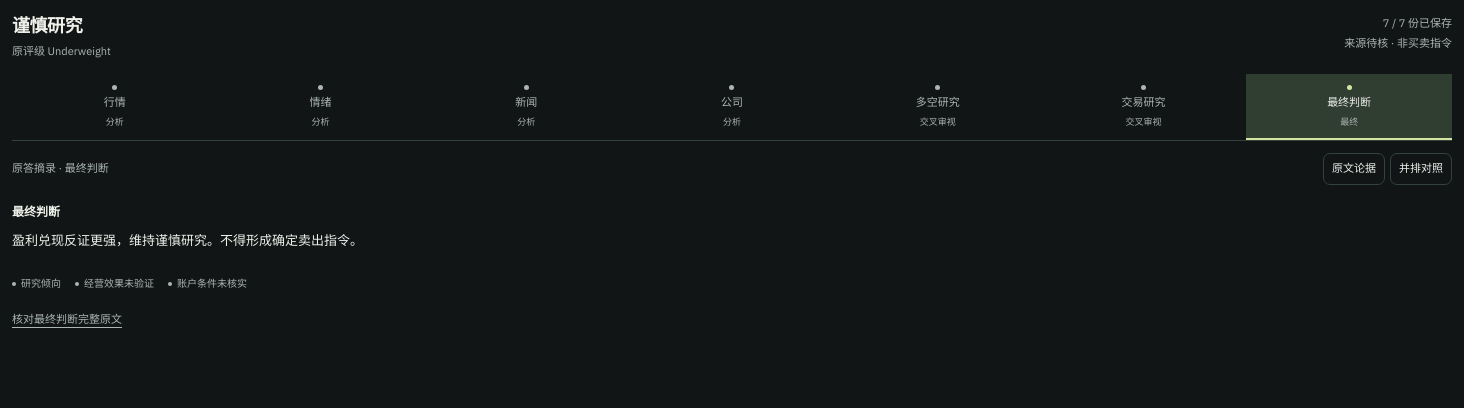
Test: keeps comparison sources distinct when the left side becomes the previous comparison source
Click the button "并排对照" at (1421, 169), box top-left (1390, 153), bottom-right (1452, 185)
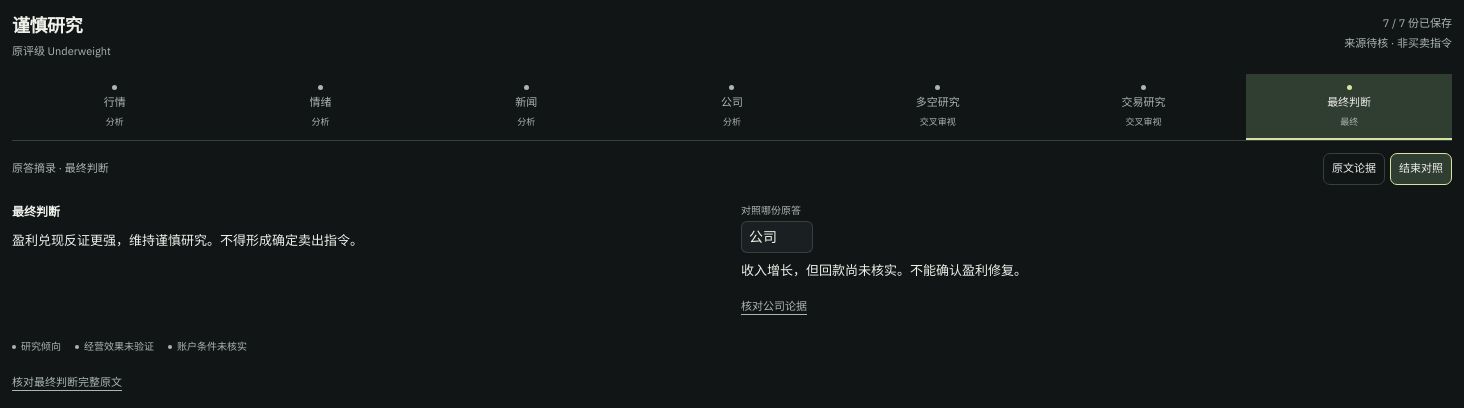
Click the tab "公司 分析" at (732, 107), box top-left (629, 74), bottom-right (835, 140)
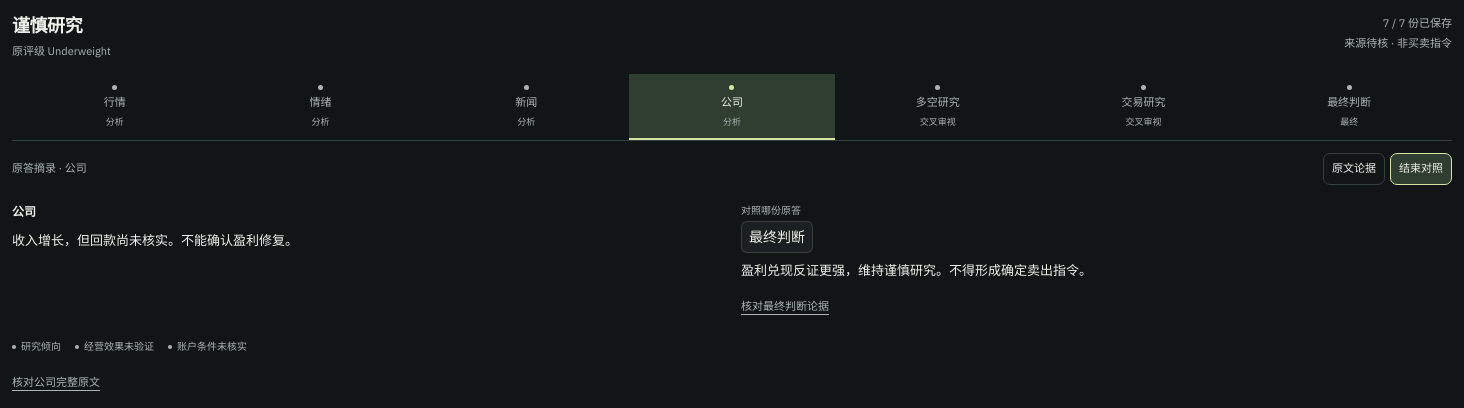
Expected: the dropdown shows "最终判断", top-left (741, 221), bottom-right (813, 253)
Expected: the element named "对照报告摘录" shows "盈利兑现反证更强", top-left (741, 262), bottom-right (1092, 279)
